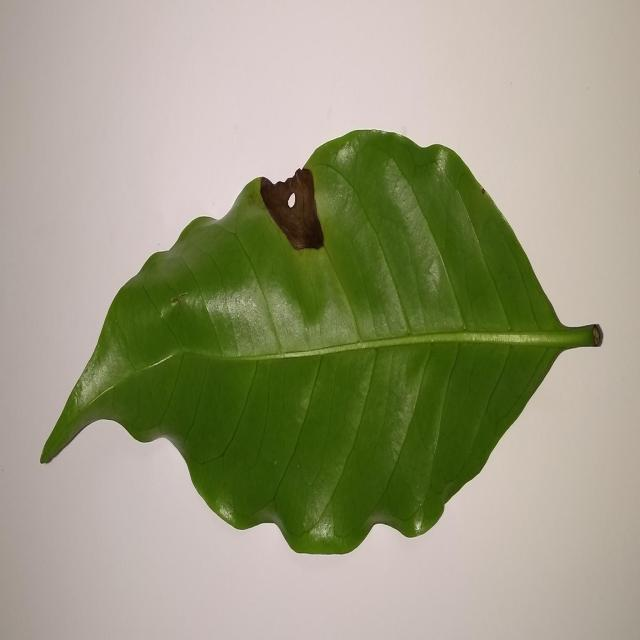Enfermedad-Antracnosis: (39, 129, 603, 558)
